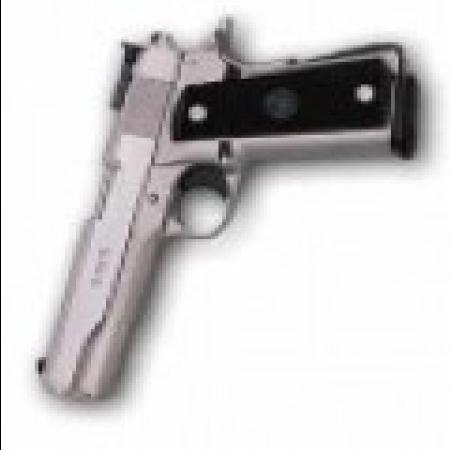Pistol: (26, 20, 420, 396)
